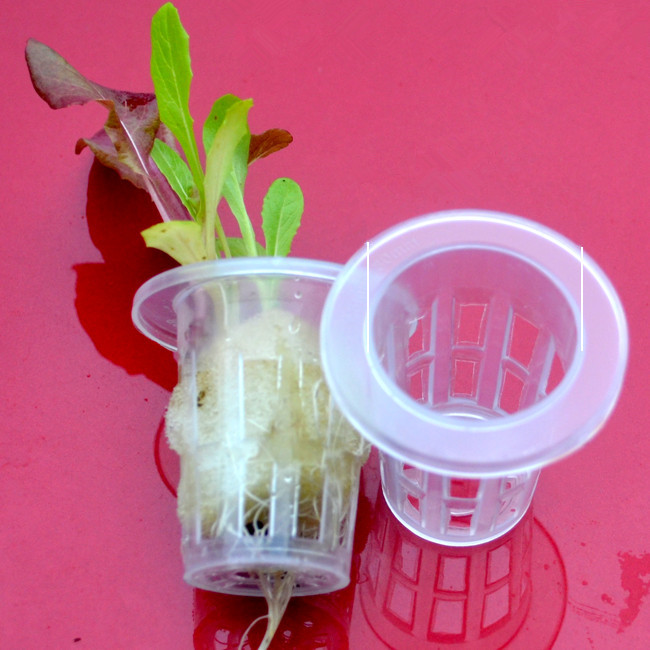basket: (335, 192, 625, 563), (123, 256, 400, 599)
